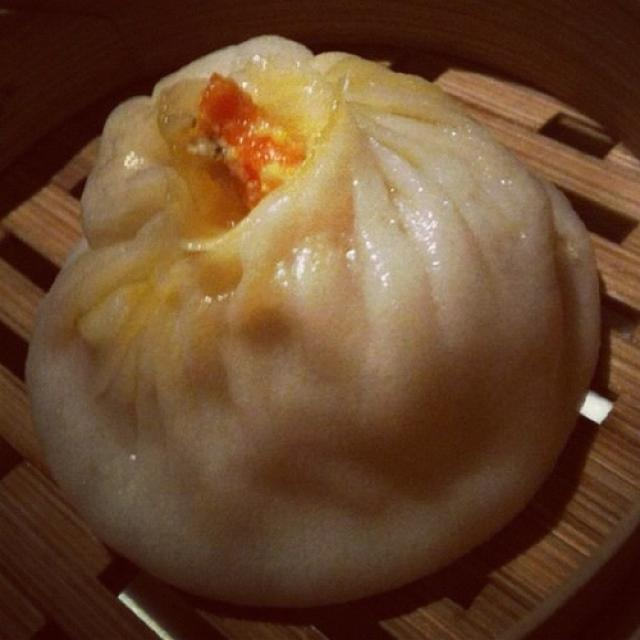带馅早点: (18, 28, 595, 616)
